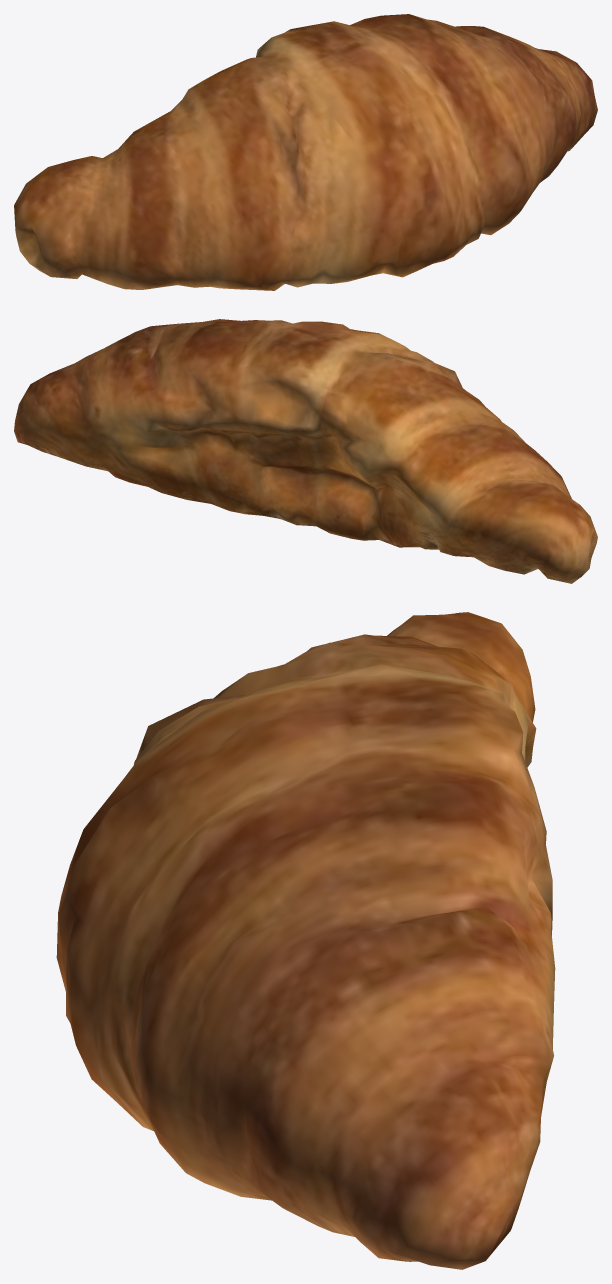
Rendered from croissant.gltf.
3 views of the same model, one above another, from view 1: azimuth 30°, elevation 25°; view 2: azimuth 150°, elevation 25°; view 3: azimuth 270°, elevation 25° (orthographic). The views are drawn at different scales.
Visible parts, largest first — view 1: croissant; view 2: croissant; view 3: croissant.
Part boxes in pixels (x1,y1,x2,y2): croissant: (14, 14, 597, 290); croissant: (14, 319, 597, 583); croissant: (56, 612, 555, 1269).
Bounding box in the file's own units: 0.2 × 0.062 × 0.0755.
Materials: 1 (1 with a texture image).
